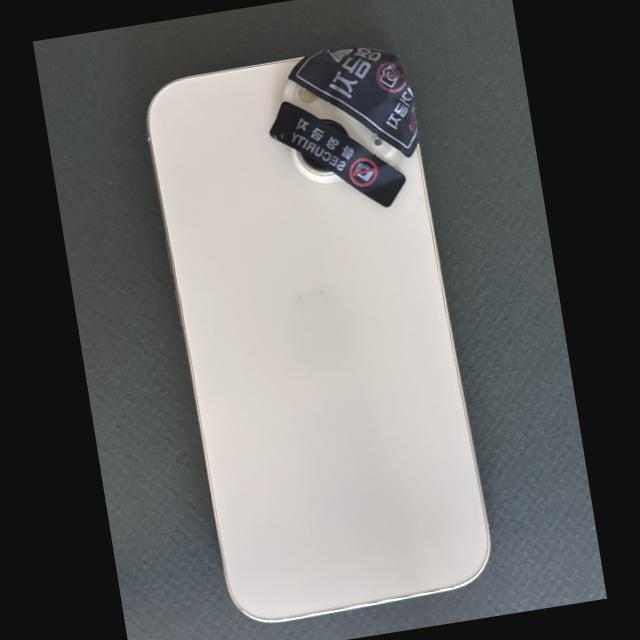lens: (295, 150, 332, 174)
phone: (147, 47, 492, 624)
sticker: (287, 46, 421, 158), (270, 101, 406, 207)
